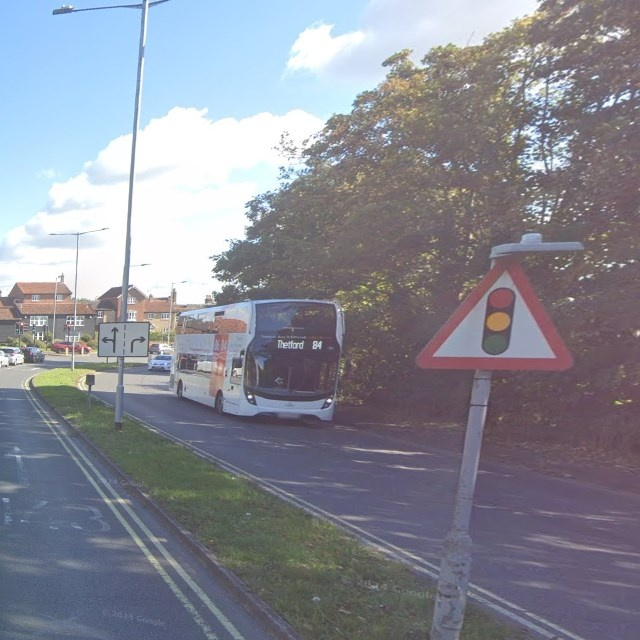Traffic lights: (410, 249, 577, 371)
